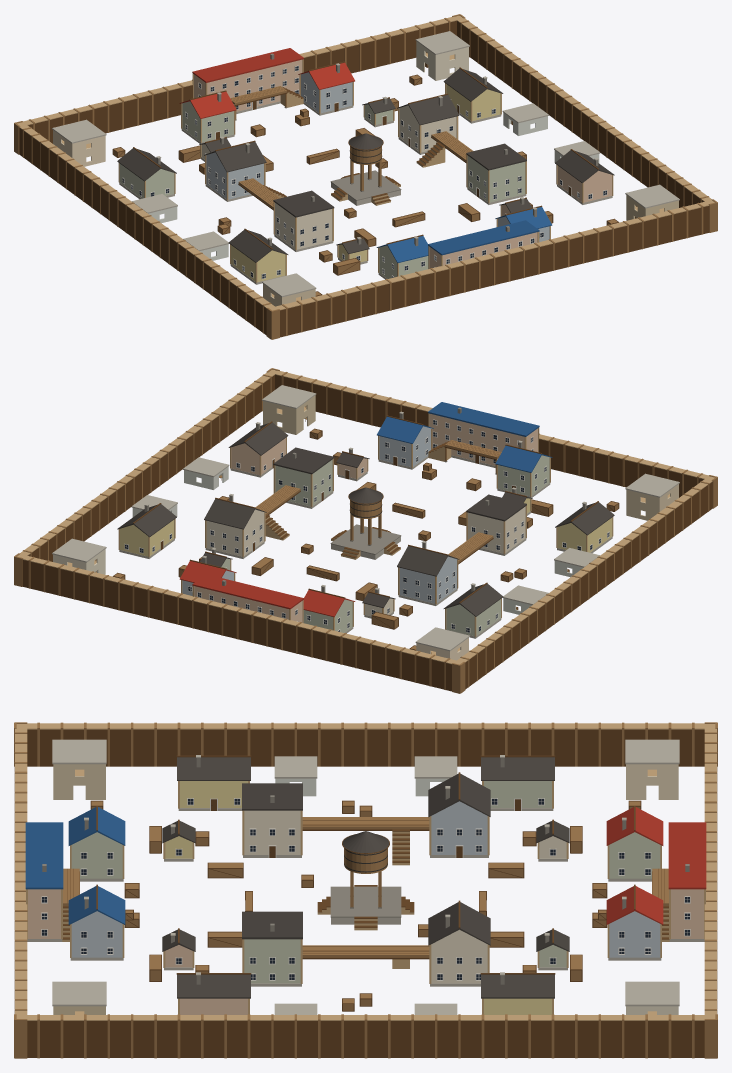
Rendered from vila.glb.
3 views of the same model, one above another, from view 1: azimuth 30°, elevation 25°; view 2: azimuth 150°, elevation 25°; view 3: azimuth 270°, elevation 25° (orthographic). The views are drawn at different scales.
Parts seen in each view (by area): view 1: map_wood_dark.013, map_wood.013, map_wood_light.011, map_roof_slate.009, map_stone.010, map_wall_2.008, map_wall_1.007, map_roof_red.011, map_wall_0.008, map_roof_blue.008, map_wall_3.006, map_trim.010 (+7 smaller); view 2: map_wood_dark.013, map_wood.013, map_wood_light.011, map_roof_slate.009, map_stone.010, map_wall_2.008, map_wall_1.007, map_wall_0.008, map_roof_blue.008, map_wall_3.006, map_roof_red.011, map_trim.010 (+7 smaller); view 3: map_wood_dark.013, map_wood.013, map_wood_light.011, map_roof_slate.009, map_stone.010, map_wall_2.008, map_wall_3.006, map_roof_red.011, map_roof_blue.008, map_wall_0.008, map_wall_1.007, map_wall_4.005 (+6 smaller).
Boxes of the visible parts, left/top/right/bottom form: map_wood_dark.013: left=19, top=20, right=709, bottom=337; map_wood.013: left=14, top=14, right=717, bottom=339; map_wood_light.011: left=17, top=15, right=714, bottom=310; map_roof_slate.009: left=117, top=68, right=614, bottom=262; map_stone.010: left=52, top=31, right=679, bottom=297; map_wall_2.008: left=119, top=101, right=525, bottom=278; map_wall_1.007: left=194, top=59, right=611, bottom=268; map_roof_red.011: left=179, top=48, right=354, bottom=118; map_wall_0.008: left=201, top=105, right=456, bottom=249; map_roof_blue.008: left=376, top=207, right=552, bottom=263; map_wall_3.006: left=206, top=72, right=549, bottom=241; map_trim.010: left=122, top=65, right=607, bottom=279; map_wood_dark.013: left=22, top=374, right=712, bottom=691; map_wood.013: left=14, top=368, right=717, bottom=693; map_wood_light.011: left=17, top=369, right=714, bottom=664; map_roof_slate.009: left=117, top=422, right=614, bottom=616; map_stone.010: left=52, top=385, right=679, bottom=651; map_wall_2.008: left=221, top=455, right=549, bottom=636; map_wall_1.007: left=194, top=414, right=537, bottom=622; map_wall_0.008: left=206, top=506, right=525, bottom=616; map_roof_blue.008: left=377, top=402, right=552, bottom=472; map_wall_3.006: left=182, top=426, right=456, bottom=603; map_roof_red.011: left=179, top=561, right=355, bottom=617; map_trim.010: left=124, top=419, right=609, bottom=633; map_wood_dark.013: left=27, top=729, right=704, bottom=1057; map_wood.013: left=14, top=722, right=717, bottom=1058; map_wood_light.011: left=15, top=723, right=716, bottom=1020; map_roof_slate.009: left=162, top=757, right=569, bottom=998; map_stone.010: left=27, top=739, right=704, bottom=1014; map_wall_2.008: left=71, top=781, right=660, bottom=983; map_wall_3.006: left=71, top=801, right=660, bottom=957; map_roof_red.011: left=606, top=807, right=706, bottom=924; map_roof_blue.008: left=25, top=807, right=125, bottom=924; map_wall_0.008: left=244, top=810, right=566, bottom=983; map_wall_1.007: left=28, top=889, right=703, bottom=1014; map_wall_4.005: left=165, top=781, right=551, bottom=1014.
Bounding box in the file's own units: 120 × 14.97 × 120.
